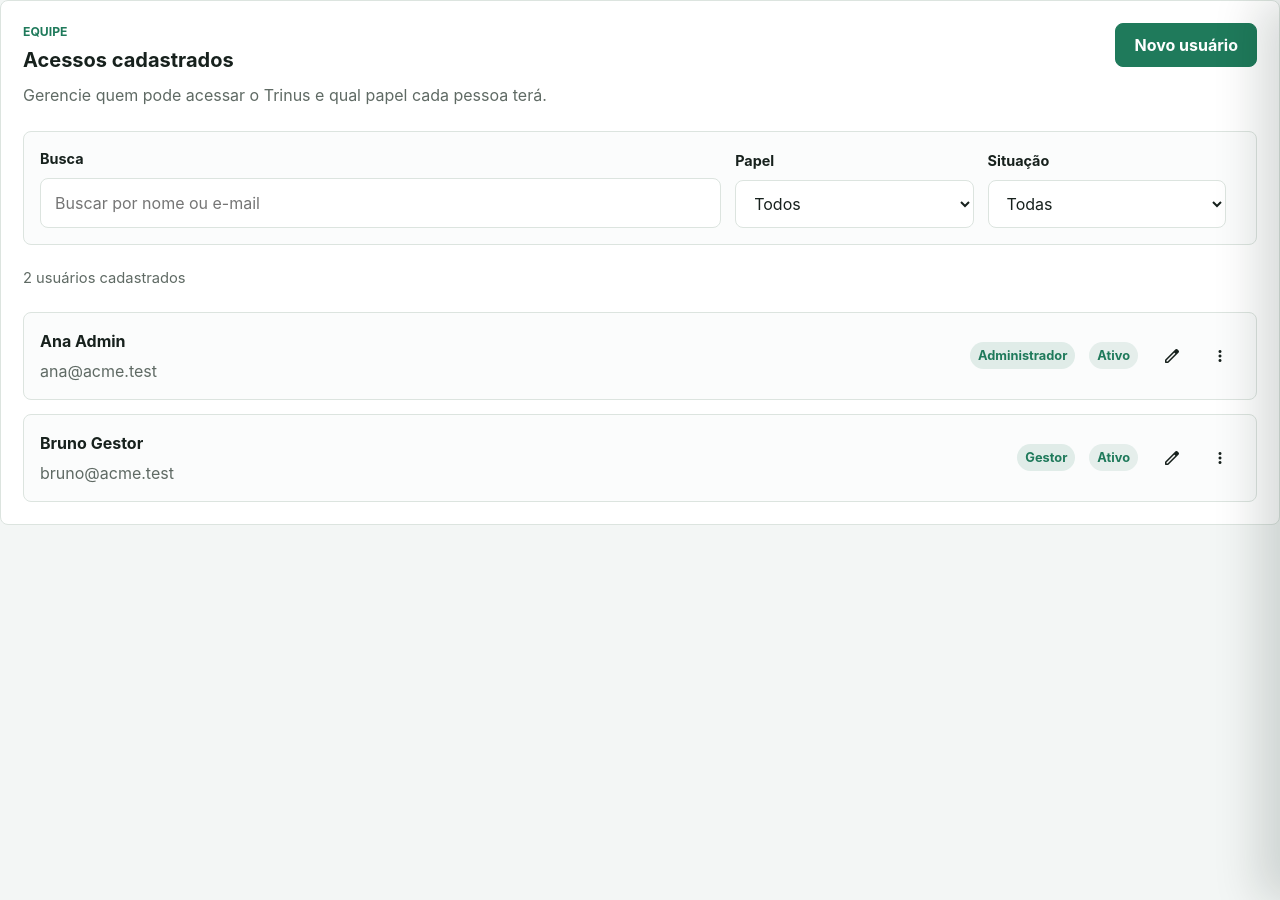
Test: UsersPageComponent › filtra usuarios por nome ou e-mail
Type "bruno" into the search field named "search" at (381, 203), box [40,178,721,228]
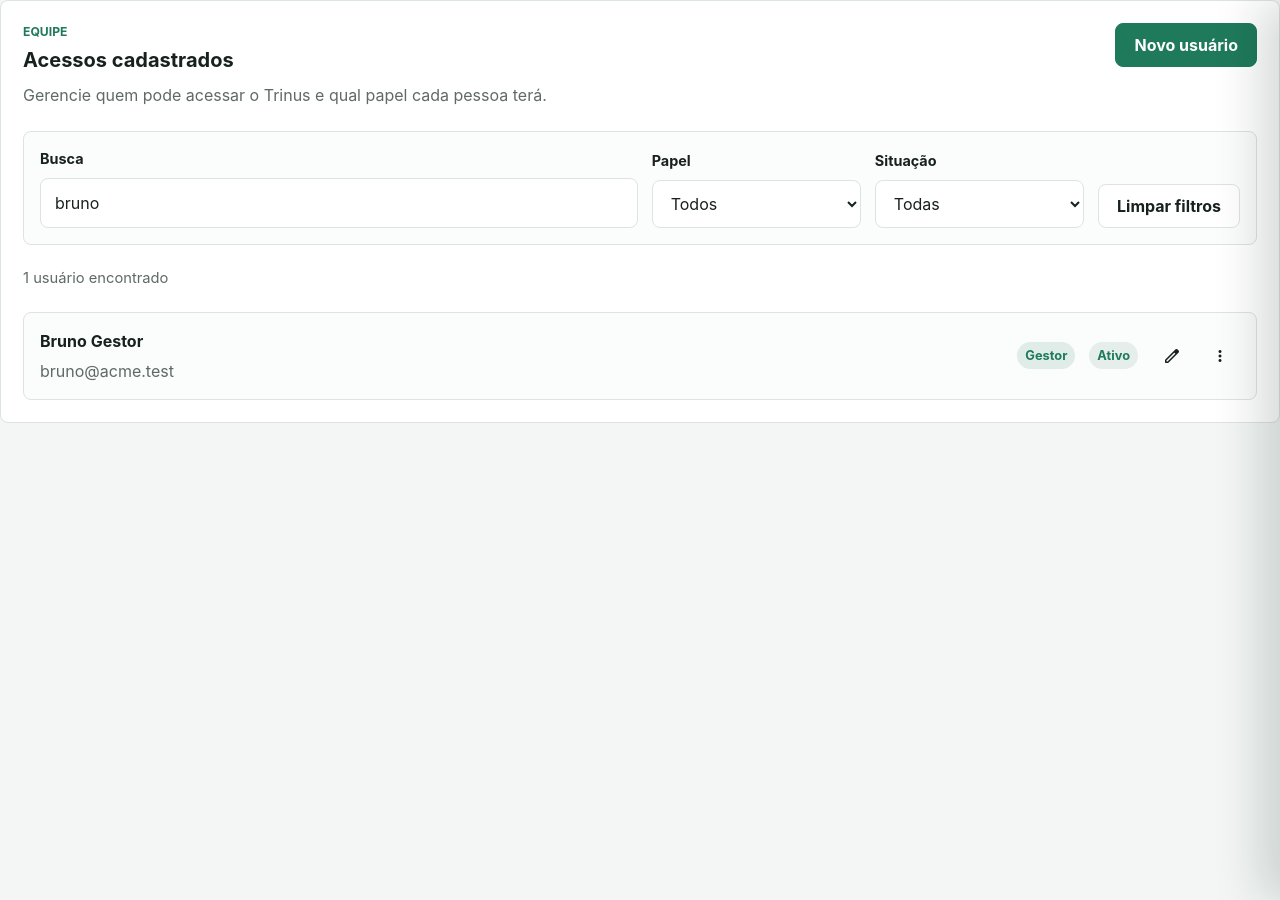
Check: the text "Bruno Gestor" is shown, box [40,330,143,350]
Check: the text "Ana Admin" is gone
Check: the text "1 usuário encontrado" is shown, box [23,269,168,287]
